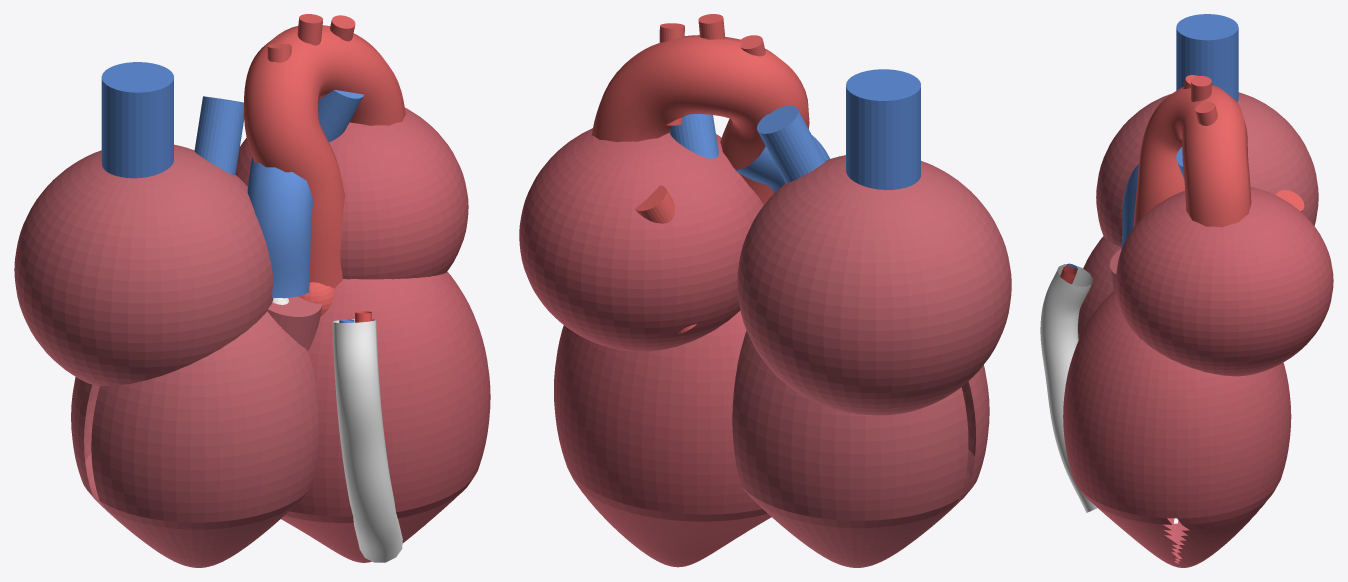
File: heart_realistic.glb
3 renders of one model, left to right at view 1: azimuth 30°, elevation 25°; view 2: azimuth 150°, elevation 25°; view 3: azimuth 270°, elevation 25°, orthographic. The views are drawn at different scales.
Parts seen in each view (by area): view 1: Right_Atrium, RV_Anterior_Wall, LV_Anterior_Wall, Left_Atrium, Aortic_Arch, Anterior_Sulcus_Fat, Superior_Vena_Cava, Pulmonary_Trunk, Right_Pulmonary_Artery, Right_Ventricle, Conus_Arteriosus, Left_Pulmonary_Artery (+2 smaller); view 2: Right_Atrium, Left_Atrium, Left_Ventricle, Right_Ventricle, Aortic_Arch, Superior_Vena_Cava, Right_Pulmonary_Artery, RV_Anterior_Wall, Left_Pulmonary_Artery, Pulmonary_Trunk, Right_Superior_PV, Left_Common_Carotid; view 3: Left_Atrium, LV_Anterior_Wall, Left_Ventricle, Aortic_Arch, Right_Atrium, Anterior_Sulcus_Fat, Superior_Vena_Cava, RV_Anterior_Wall, Pulmonary_Trunk, Left_Common_Carotid, Left_Subclavian_Artery.
Part boxes in pixels (x1,y1,x2,y2): Right_Atrium: (14,144,273,387); RV_Anterior_Wall: (91,311,318,567); LV_Anterior_Wall: (281,271,490,562); Left_Atrium: (235,107,468,279); Aortic_Arch: (244,25,405,288); Anterior_Sulcus_Fat: (332,319,402,562); Superior_Vena_Cava: (101,62,173,178); Pulmonary_Trunk: (247,157,313,298); Right_Pulmonary_Artery: (194,96,244,175); Right_Ventricle: (71,377,139,538); Conus_Arteriosus: (267,296,322,350); Left_Pulmonary_Artery: (318,90,363,141); Right_Atrium: (737,155,1011,415); Left_Atrium: (519,128,763,351); Left_Ventricle: (554,310,771,567); Right_Ventricle: (732,331,968,567); Aortic_Arch: (592,35,809,204); Superior_Vena_Cava: (846,69,920,189); Right_Pulmonary_Artery: (757,105,825,183); RV_Anterior_Wall: (915,365,989,539); Left_Pulmonary_Artery: (669,114,718,158); Pulmonary_Trunk: (735,135,830,193); Right_Superior_PV: (635,185,674,223); Left_Common_Carotid: (698,14,725,39); Left_Atrium: (1116,187,1333,376); LV_Anterior_Wall: (1063,289,1178,566); Left_Ventricle: (1176,362,1291,567); Aortic_Arch: (1133,85,1251,227); Right_Atrium: (1096,92,1318,246); Anterior_Sulcus_Fat: (1040,264,1097,512); Superior_Vena_Cava: (1176,14,1238,102); RV_Anterior_Wall: (1078,236,1121,339); Pulmonary_Trunk: (1121,163,1138,249); Left_Common_Carotid: (1191,76,1211,101); Left_Subclavian_Artery: (1195,102,1217,125).
Bounding box in the file's own units: 4.93 × 5.97 × 3.39.
